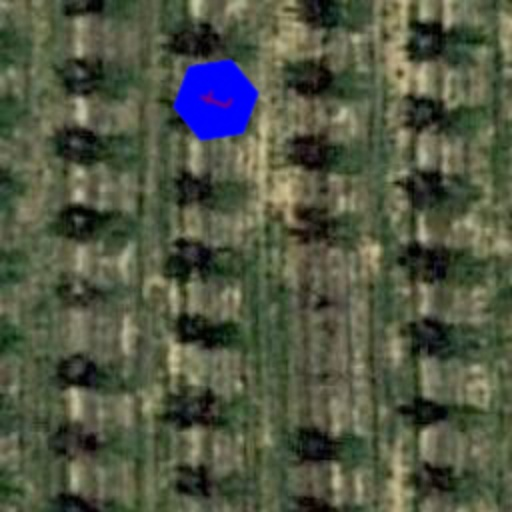hexagon: (158, 42, 274, 158)
